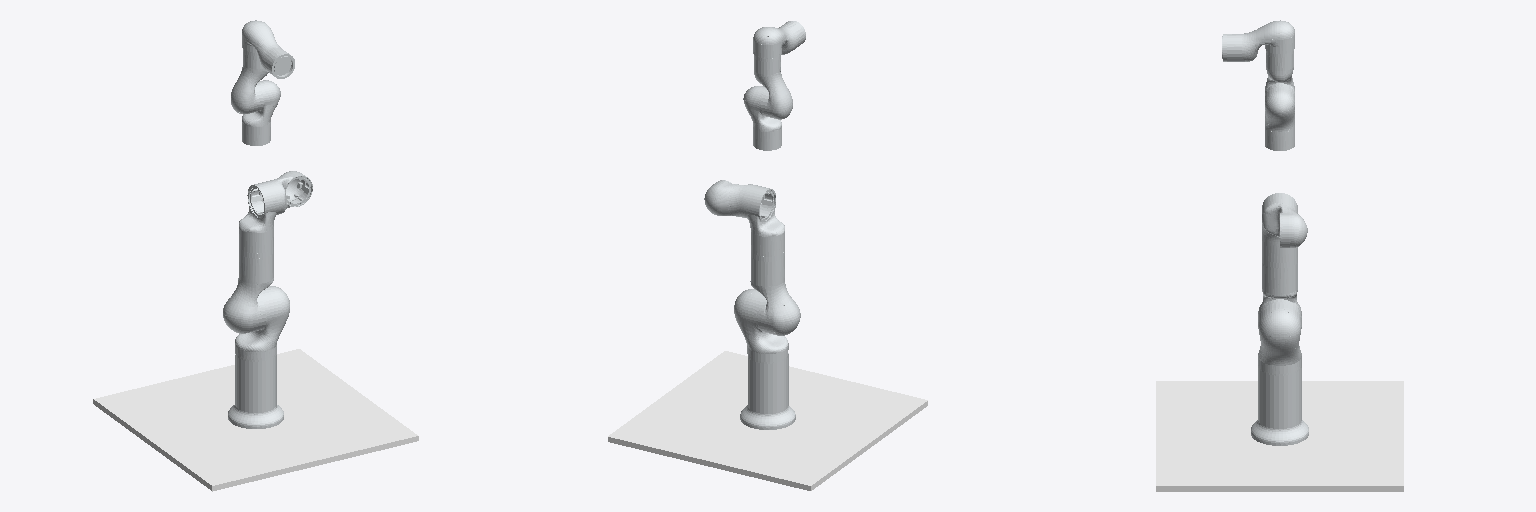
URDF robot description (orochi):
<?xml version="1.0" encoding="utf-8"?>
<!-- This URDF was automatically created by SolidWorks to URDF Exporter! Originally created by [author] ([email redacted]) 
     Commit Version: 1.5.1-0-g916b5db  Build Version: 1.5.7152.31018
     For more information, please see http://wiki.ros.org/sw_urdf_exporter -->
<robot
  name="orochi">
  <link
    name="base_link">
    <inertial>
      <origin
        xyz="7.05860789378583E-17 -2.77555756156289E-17 0.01"
        rpy="0 0 0" />
      <mass
        value="12.8" />
      <inertia
        ixx="0.683093333333333"
        ixy="8.7633604077079E-17"
        ixz="1.26210153439388E-15"
        iyy="0.683093333333333"
        iyz="-3.55271367880212E-19"
        izz="1.36533333333333" />
    </inertial>
    <visual>
      <origin
        xyz="0 0 0"
        rpy="0 0 0" />
      <geometry>
        <mesh
          filename="package://orochi/meshes/base_link.STL" />
      </geometry>
      <material
        name="">
        <color
          rgba="1 1 1 1" />
      </material>
    </visual>
    <collision>
      <origin
        xyz="0 0 0"
        rpy="0 0 0" />
      <geometry>
        <mesh
          filename="package://orochi/meshes/base_link.STL" />
      </geometry>
    </collision>
  </link>
  <link
    name="Link_0">
    <inertial>
      <origin
        xyz="2.21364575388767E-08 -2.79407750550356E-07 0.0924156438654813"
        rpy="0 0 0" />
      <mass
        value="1.88014486866152" />
      <inertia
        ixx="0.0151317721890805"
        ixy="1.2237952342225E-08"
        ixz="2.08088296155E-09"
        iyy="0.0151316127478672"
        iyz="-2.62643831043891E-08"
        izz="0.010038350425731" />
    </inertial>
    <visual>
      <origin
        xyz="0 0 0"
        rpy="0 0 0" />
      <geometry>
        <mesh
          filename="package://orochi/meshes/Link_0.STL" />
      </geometry>
      <material
        name="">
        <color
          rgba="0.898039215686275 0.917647058823529 0.929411764705882 1" />
      </material>
    </visual>
    <collision>
      <origin
        xyz="0 0 0"
        rpy="0 0 0" />
      <geometry>
        <mesh
          filename="package://orochi/meshes/Link_0.STL" />
      </geometry>
    </collision>
  </link>
  <joint
    name="joint_0"
    type="fixed">
    <origin
      xyz="0 0 0.02"
      rpy="0 0 0" />
    <parent
      link="base_link" />
    <child
      link="Link_0" />
    <axis
      xyz="0 0 0" />
  </joint>
  <link
    name="Link_1">
    <inertial>
      <origin
        xyz="0.0228471602671468 0.000500609688309126 0.0788576426309777"
        rpy="0 0 0" />
      <mass
        value="2.51197128388461" />
      <inertia
        ixx="0.012008081154807"
        ixy="-2.56915293947423E-05"
        ixz="-0.00152433945966359"
        iyy="0.0101247306598904"
        iyz="-8.26381083889653E-06"
        izz="0.00695225382377171" />
    </inertial>
    <visual>
      <origin
        xyz="0 0 0"
        rpy="0 0 0" />
      <geometry>
        <mesh
          filename="package://orochi/meshes/Link_1.STL" />
      </geometry>
      <material
        name="">
        <color
          rgba="0.898039215686275 0.917647058823529 0.929411764705882 1" />
      </material>
    </visual>
    <collision>
      <origin
        xyz="0 0 0"
        rpy="0 0 0" />
      <geometry>
        <mesh
          filename="package://orochi/meshes/Link_1.STL" />
      </geometry>
    </collision>
  </link>
  <joint
    name="joint_1"
    type="revolute">
    <origin
      xyz="0 0 0.23849"
      rpy="0 0 0" />
    <parent
      link="Link_0" />
    <child
      link="Link_1" />
    <axis
      xyz="0 0 1" />
    <limit
      lower="-2.967"
      upper="2.967"
      effort="1000"
      velocity="2" />
  </joint>
  <link
    name="Link_2">
    <inertial>
      <origin
        xyz="7.89001450738079E-05 -0.171949488893076 0.0110023501027868"
        rpy="0 0 0" />
      <mass
        value="3.31822697321063" />
      <inertia
        ixx="0.0184210473135389"
        ixy="1.70853829649417E-05"
        ixz="4.0781669305235E-06"
        iyy="0.00835204214910708"
        iyz="-0.00285248464316658"
        izz="0.0199973474226765" />
    </inertial>
    <visual>
      <origin
        xyz="0 0 0"
        rpy="0 0 0" />
      <geometry>
        <mesh
          filename="package://orochi/meshes/Link_2.STL" />
      </geometry>
      <material
        name="">
        <color
          rgba="0.898039215686275 0.917647058823529 0.929411764705882 1" />
      </material>
    </visual>
    <collision>
      <origin
        xyz="0 0 0"
        rpy="0 0 0" />
      <geometry>
        <mesh
          filename="package://orochi/meshes/Link_2.STL" />
      </geometry>
    </collision>
  </link>
  <joint
    name="joint_2"
    type="revolute">
    <origin
      xyz="0.00024 0 0.161"
      rpy="-1.5708 0 1.5708" />
    <parent
      link="Link_1" />
    <child
      link="Link_2" />
    <axis
      xyz="0 0 1" />
    <limit
      lower="-2.094"
      upper="2.094"
      effort="1000"
      velocity="2" />
  </joint>
  <link
    name="Link_3">
    <inertial>
      <origin
        xyz="5.3119E-06 0.10069 -0.018547"
        rpy="0 0 0" />
      <mass
        value="1.8781" />
      <inertia
        ixx="0.01034"
        ixy="2.518E-07"
        ixz="-5.7602E-08"
        iyy="0.003594"
        iyz="-0.0016927"
        izz="0.01059" />
    </inertial>
    <visual>
      <origin
        xyz="0 0 0"
        rpy="0 0 0" />
      <geometry>
        <mesh
          filename="package://orochi/meshes/Link_3.STL" />
      </geometry>
      <material
        name="">
        <color
          rgba="0.89804 0.91765 0.92941 1" />
      </material>
    </visual>
    <collision>
      <origin
        xyz="0 0 0"
        rpy="0 0 0" />
      <geometry>
        <mesh
          filename="package://orochi/meshes/Link_3.STL" />
      </geometry>
    </collision>
  </link>
  <joint
    name="joint_3"
    type="revolute">
    <origin
      xyz="0 -0.3995 -0.00051"
      rpy="3.1416 0 0" />
    <parent
      link="Link_2" />
    <child
      link="Link_3" />
    <axis
      xyz="0 0 -1" />
    <limit
      lower="-2.094"
      upper="2.094"
      effort="1000"
      velocity="2" />
  </joint>
  <link
    name="Link_4">
    <inertial>
      <origin
        xyz="0.0194131556789511 -4.28172792902E-05 -0.107325643864137"
        rpy="0 0 0" />
      <mass
        value="0.892428647319901" />
      <inertia
        ixx="0.00338370651670969"
        ixy="-5.5096935945017E-07"
        ixz="0.000365304335883195"
        iyy="0.0030183348925586"
        iyz="-2.20632524300689E-06"
        izz="0.00135669086771203" />
    </inertial>
    <visual>
      <origin
        xyz="0 0 0"
        rpy="0 0 0" />
      <geometry>
        <mesh
          filename="package://orochi/meshes/Link_4.STL" />
      </geometry>
      <material
        name="">
        <color
          rgba="0.898039215686275 0.917647058823529 0.929411764705882 1" />
      </material>
    </visual>
    <collision>
      <origin
        xyz="0 0 0"
        rpy="0 0 0" />
      <geometry>
        <mesh
          filename="package://orochi/meshes/Link_4.STL" />
      </geometry>
    </collision>
  </link>
  <joint
    name="joint_4"
    type="revolute">
    <origin
      xyz="-2.9588E-05 0.22974 -0.00010578"
      rpy="1.5708 -1.5708 0" />
    <parent
      link="Link_3" />
    <child
      link="Link_4" />
    <axis
      xyz="0 0 -1" />
    <limit
      lower="-2.967"
      upper="2.967"
      effort="1000"
      velocity="2" />
  </joint>
  <link
    name="Link_5">
    <inertial>
      <origin
        xyz="1.376E-05 -0.04188 0.025899"
        rpy="0 0 0" />
      <mass
        value="2.3887" />
      <inertia
        ixx="0.0090274"
        ixy="2.9426E-06"
        ixz="-2.0317E-06"
        iyy="0.0030811"
        iyz="-0.0016392"
        izz="0.009105" />
    </inertial>
    <visual>
      <origin
        xyz="0 0 0"
        rpy="0 0 0" />
      <geometry>
        <mesh
          filename="package://orochi/meshes/Link_5.STL" />
      </geometry>
      <material
        name="">
        <color
          rgba="0.89804 0.91765 0.92941 1" />
      </material>
    </visual>
    <collision>
      <origin
        xyz="0 0 0"
        rpy="0 0 0" />
      <geometry>
        <mesh
          filename="package://orochi/meshes/Link_5.STL" />
      </geometry>
    </collision>
  </link>
  <joint
    name="joint_5"
    type="revolute">
    <origin
      xyz="0.00060578 -3.2208E-05 -0.15975"
      rpy="1.5708 0 -1.5708" />
    <parent
      link="Link_4" />
    <child
      link="Link_5" />
    <axis
      xyz="0 0 -1" />
    <limit
      lower="-2.094"
      upper="2.094"
      effort="1000"
      velocity="2" />
  </joint>
  <link
    name="Link_6">
    <inertial>
      <origin
        xyz="4.02145722768659E-06 4.0177895784755E-06 0.00756364496970607"
        rpy="0 0 0" />
      <mass
        value="0.22588441636481" />
      <inertia
        ixx="0.000104188659613564"
        ixy="7.81396930623338E-09"
        ixz="-1.39484791249641E-08"
        iyy="0.000104188604048639"
        iyz="-1.39362927621745E-08"
        izz="0.000193927698384729" />
    </inertial>
    <visual>
      <origin
        xyz="0 0 0"
        rpy="0 0 0" />
      <geometry>
        <mesh
          filename="package://orochi/meshes/Link_6.STL" />
      </geometry>
      <material
        name="">
        <color
          rgba="0.898039215686275 0.917647058823529 0.929411764705882 1" />
      </material>
    </visual>
    <collision>
      <origin
        xyz="0 0 0"
        rpy="0 0 0" />
      <geometry>
        <mesh
          filename="package://orochi/meshes/Link_6.STL" />
      </geometry>
    </collision>
  </link>
  <joint
    name="joint_6"
    type="revolute">
    <origin
      xyz="0 -0.1845 -0.00025"
      rpy="1.5708 1.5708 0" />
    <parent
      link="Link_5" />
    <child
      link="Link_6" />
    <axis
      xyz="0 0 -1" />
    <limit
      lower="-3.1415"
      upper="3.1415"
      effort="1000"
      velocity="2" />
  </joint>
</robot>

--- Facts derived from the render (not from the file) ---
The picture shows the robot from 3 angles, left to right: view 1: azimuth 30°, elevation 25°; view 2: azimuth 150°, elevation 25°; view 3: azimuth 270°, elevation 25°; orthographic projection.
Model orochi with 8 links and 7 joints (6 revolute, 1 fixed), rooted at base_link, posed all joints at 0.
Visible links, largest first — view 1: base_link, Link_2, Link_0, Link_1, Link_3, Link_6, Link_5, Link_4; view 2: base_link, Link_2, Link_0, Link_1, Link_3, Link_5, Link_6, Link_4; view 3: base_link, Link_0, Link_1, Link_2, Link_6, Link_4, Link_3, Link_5.
Link boxes in pixels (x1,y1,x2,y2): base_link: (93,349,418,491); Link_2: (223,185,276,333); Link_0: (228,354,283,428); Link_1: (235,286,289,361); Link_3: (247,171,312,218); Link_6: (242,20,294,78); Link_5: (231,49,268,114); Link_4: (242,80,280,145); base_link: (608,351,927,490); Link_2: (747,190,800,335); Link_0: (740,355,795,429); Link_1: (734,289,788,363); Link_3: (704,180,775,221); Link_5: (754,55,792,119); Link_6: (753,21,805,58); Link_4: (743,86,781,150); base_link: (1156,381,1403,491); Link_0: (1251,368,1308,445); Link_1: (1258,302,1301,375); Link_2: (1258,224,1301,318); Link_6: (1222,20,1294,61); Link_4: (1265,86,1294,150); Link_3: (1262,193,1307,247); Link_5: (1265,51,1294,95).
Size in the robot's own frame: 0.8 by 0.8 by 1.48 metres.
Meshes: 8 distinct files referenced, 8 mesh visuals loaded (8 binary STL).